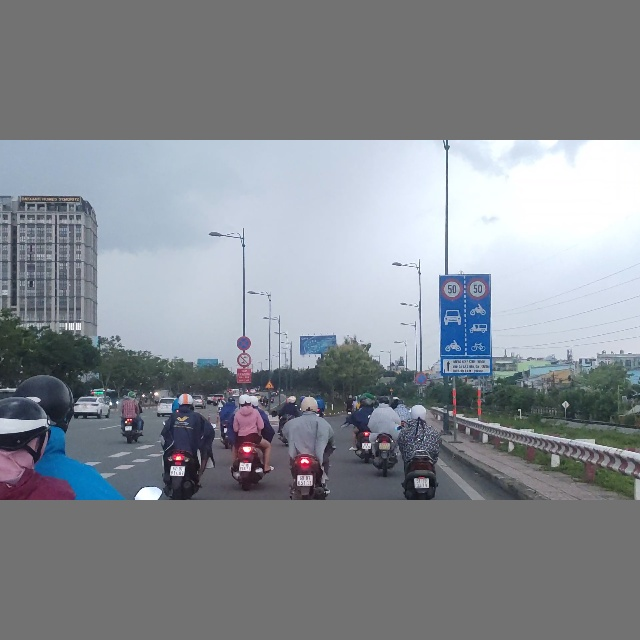P.127*40: (440, 276, 465, 301)
P.130: (236, 336, 252, 351)
